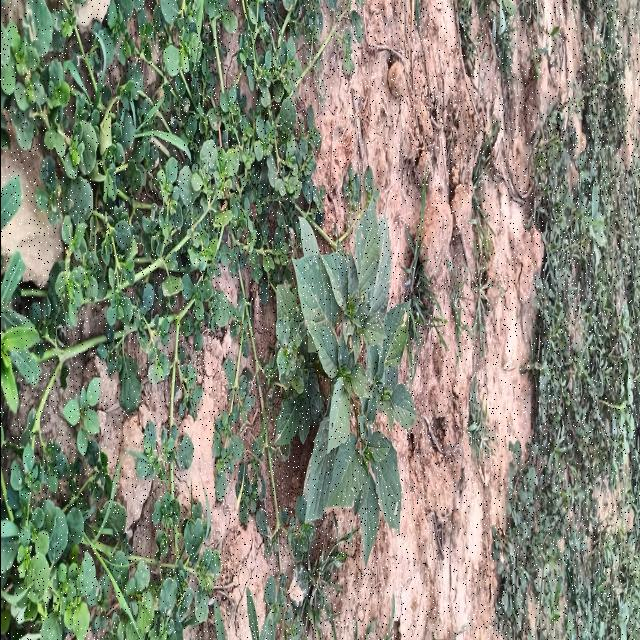plant: (275, 196, 416, 560)
